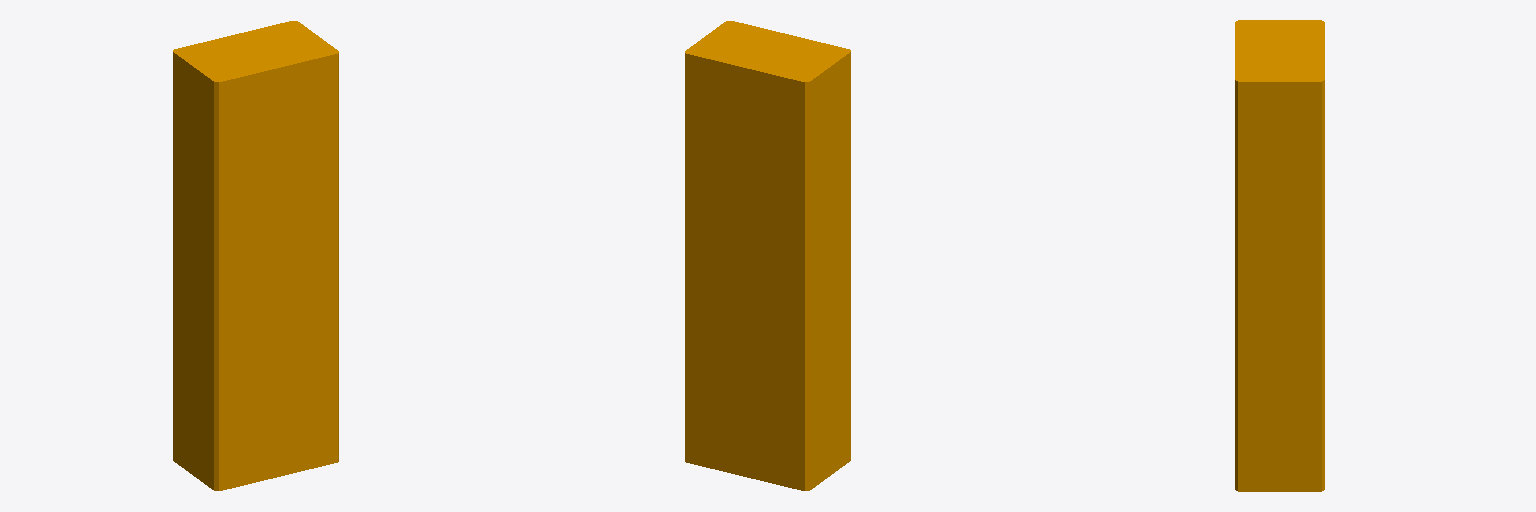
URDF robot description (factory_rectangular_peg_16mm_tight):
<?xml version="1.0"?>
<robot name="factory_rectangular_peg_16mm_tight">
    <link name="factory_rectangular_peg_16mm_tight">
        <visual>
            <geometry>
                <mesh filename="../mesh/factory_insertion/factory_rectangular_peg_16mm_tight_subdiv_3x.obj"/>
            </geometry>
        </visual>
        <collision>
            <geometry>
                <mesh filename="../mesh/factory_insertion/factory_rectangular_peg_16mm_tight_subdiv_3x.obj"/>
            </geometry>
            <sdf resolution="256"/>
        </collision>
    </link>
</robot>

--- Facts derived from the render (not from the file) ---
The picture shows the robot from 3 angles, left to right: view 1: azimuth 30°, elevation 25°; view 2: azimuth 150°, elevation 25°; view 3: azimuth 270°, elevation 25°; orthographic projection.
Robot: factory_rectangular_peg_16mm_tight — 1 links, 0 joints (none); root link factory_rectangular_peg_16mm_tight; default pose: all joints at 0.
Visible links, largest first — view 1: factory_rectangular_peg_16mm_tight; view 2: factory_rectangular_peg_16mm_tight; view 3: factory_rectangular_peg_16mm_tight.
Link boxes in pixels (x1,y1,x2,y2): factory_rectangular_peg_16mm_tight: [173, 21, 338, 490]; factory_rectangular_peg_16mm_tight: [685, 21, 850, 490]; factory_rectangular_peg_16mm_tight: [1235, 20, 1324, 491].
Bounding box of the posed robot: 0.016 × 0.01 × 0.05 m (x, y, z).
1 mesh visuals loaded from 1 distinct referenced files (1 OBJ).